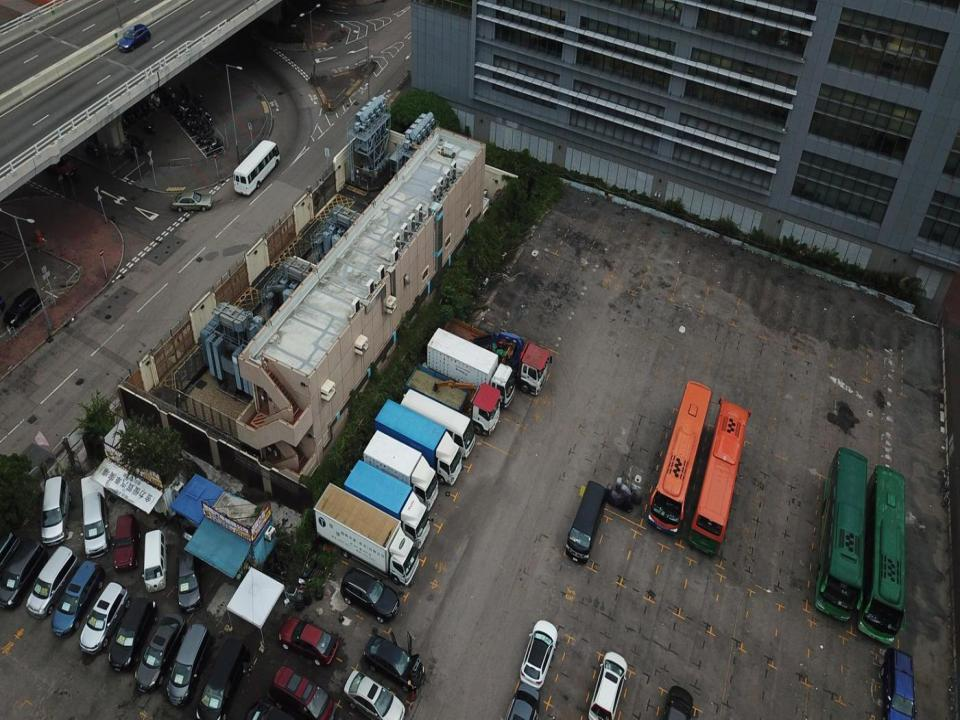bus: (686, 396, 754, 560), (644, 378, 714, 536), (810, 443, 869, 622), (857, 460, 906, 648), (399, 386, 479, 459), (232, 139, 282, 197)
car: (190, 635, 246, 719), (52, 558, 106, 640), (134, 612, 184, 694), (79, 581, 130, 661), (25, 543, 77, 621), (108, 595, 159, 674), (269, 660, 336, 719), (276, 611, 344, 668), (362, 634, 425, 695), (0, 536, 48, 613), (338, 569, 399, 628), (166, 623, 208, 708), (344, 667, 407, 719), (587, 643, 629, 719), (878, 645, 918, 719), (519, 620, 560, 690), (40, 474, 71, 543), (80, 492, 111, 559), (110, 509, 138, 573), (176, 546, 200, 610), (4, 287, 41, 328), (499, 684, 539, 719), (169, 188, 213, 217), (663, 683, 694, 719), (116, 24, 152, 53)
truck: (313, 483, 420, 583), (440, 312, 554, 400), (374, 397, 464, 489), (342, 459, 433, 549), (427, 327, 516, 412), (405, 364, 502, 441), (362, 431, 442, 511)
van: (564, 479, 610, 566), (140, 526, 167, 595)
